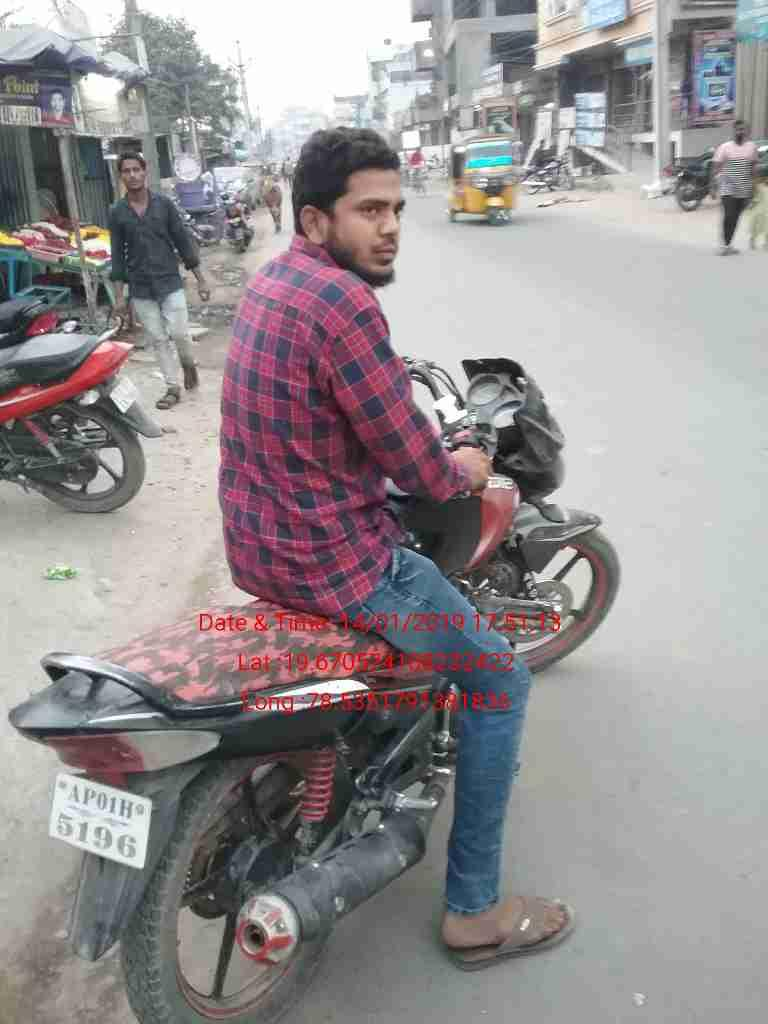plate: (43, 769, 158, 867), (107, 375, 144, 414)
